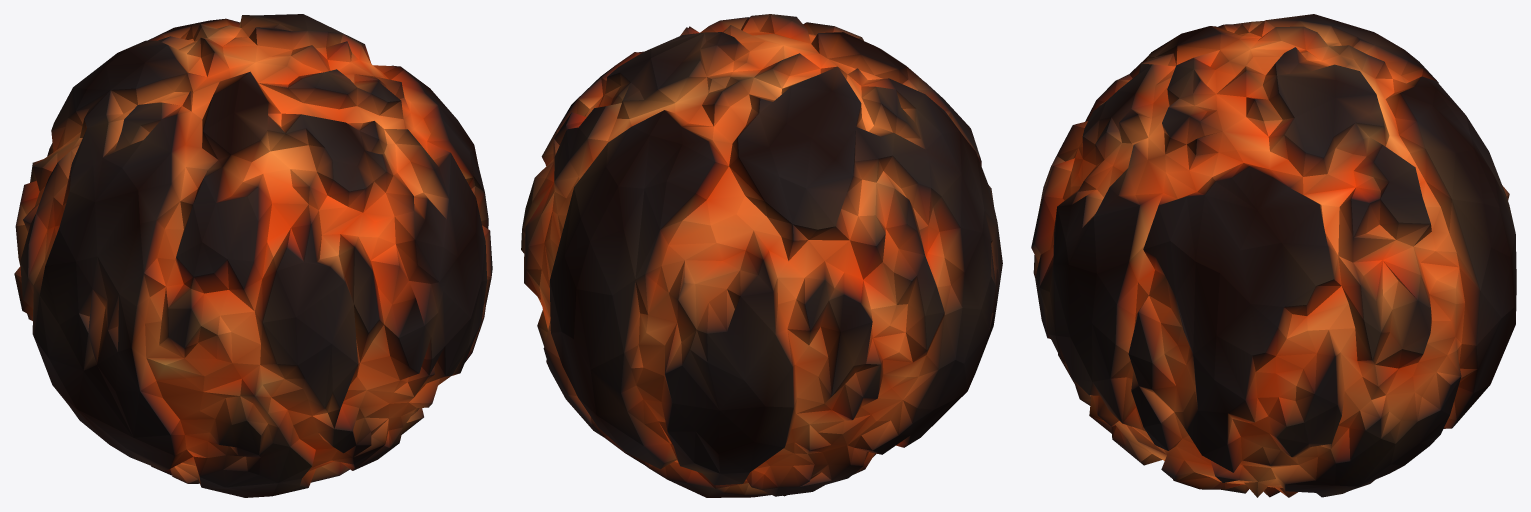
File: barren_5.fbx
3 views of the same model, side by side, from view 1: azimuth 30°, elevation 25°; view 2: azimuth 150°, elevation 25°; view 3: azimuth 270°, elevation 25° (orthographic).
Visible parts, largest first — view 1: filecache1; view 2: filecache1; view 3: filecache1.
Boxes of the visible parts, x1=… form: filecache1: x1=14, y1=14, x2=492, y2=497; filecache1: x1=521, y1=14, x2=1002, y2=497; filecache1: x1=1031, y1=14, x2=1516, y2=497.
Bounding box in the file's own units: 2.14 × 2.16 × 2.15.
